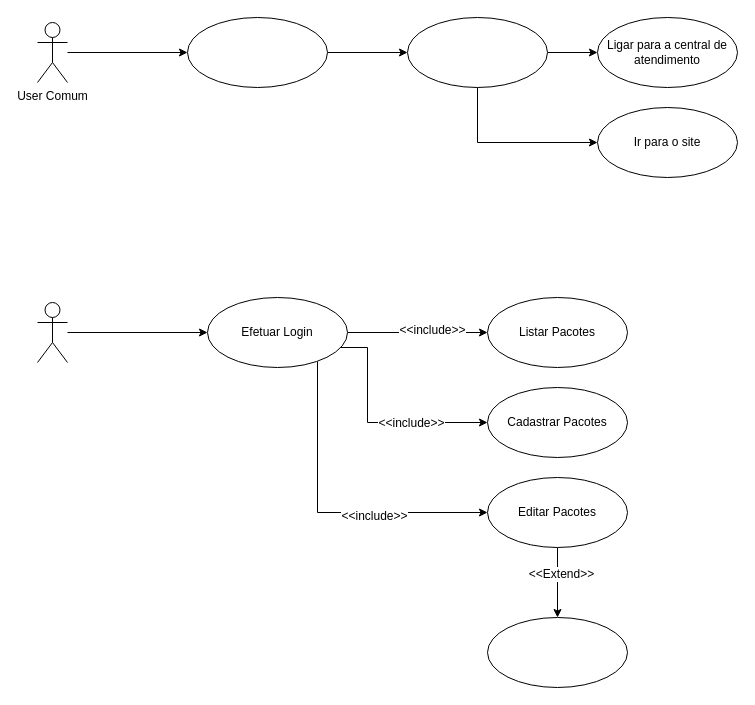
Image size: 755x705. Some labels were removed from this diagram. The centre of each missing label's shape, as x and y in pixels:
"Admin" belongs at point 52,332.
"Alterar status" belongs at point 557,652.
"Listar pacote" belongs at point 257,52.
"Selecionar pacote" belongs at point 477,52.
